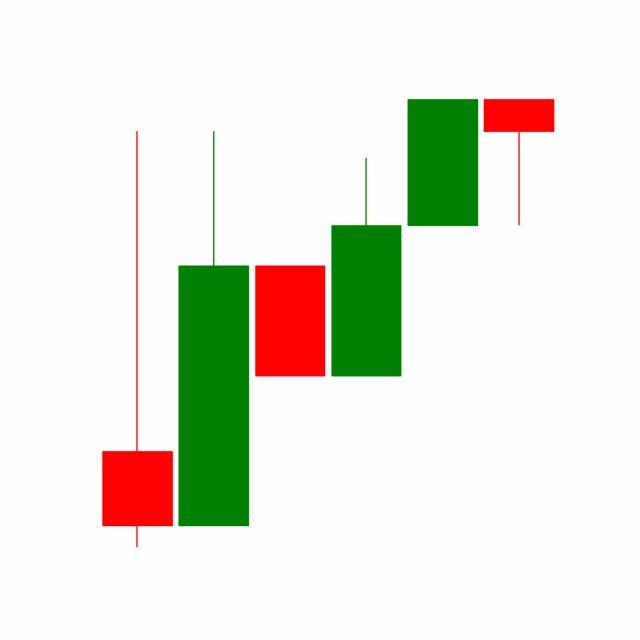Marubozu: (404, 98, 482, 228)
